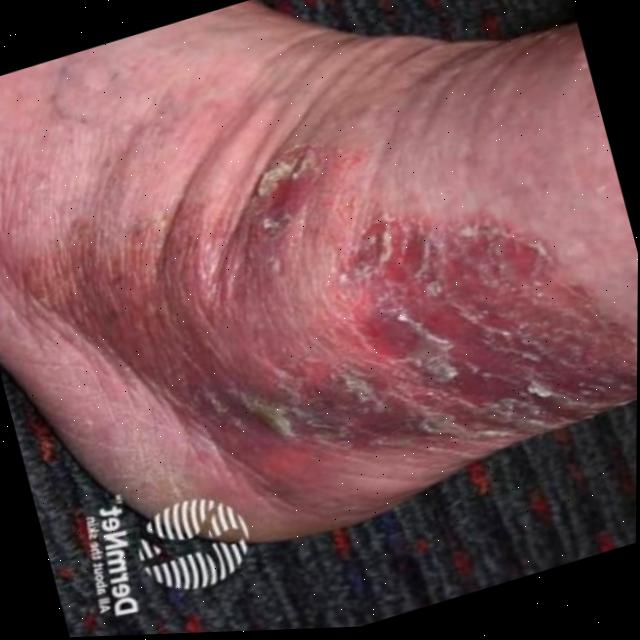Eczema: (10, 61, 639, 560)
